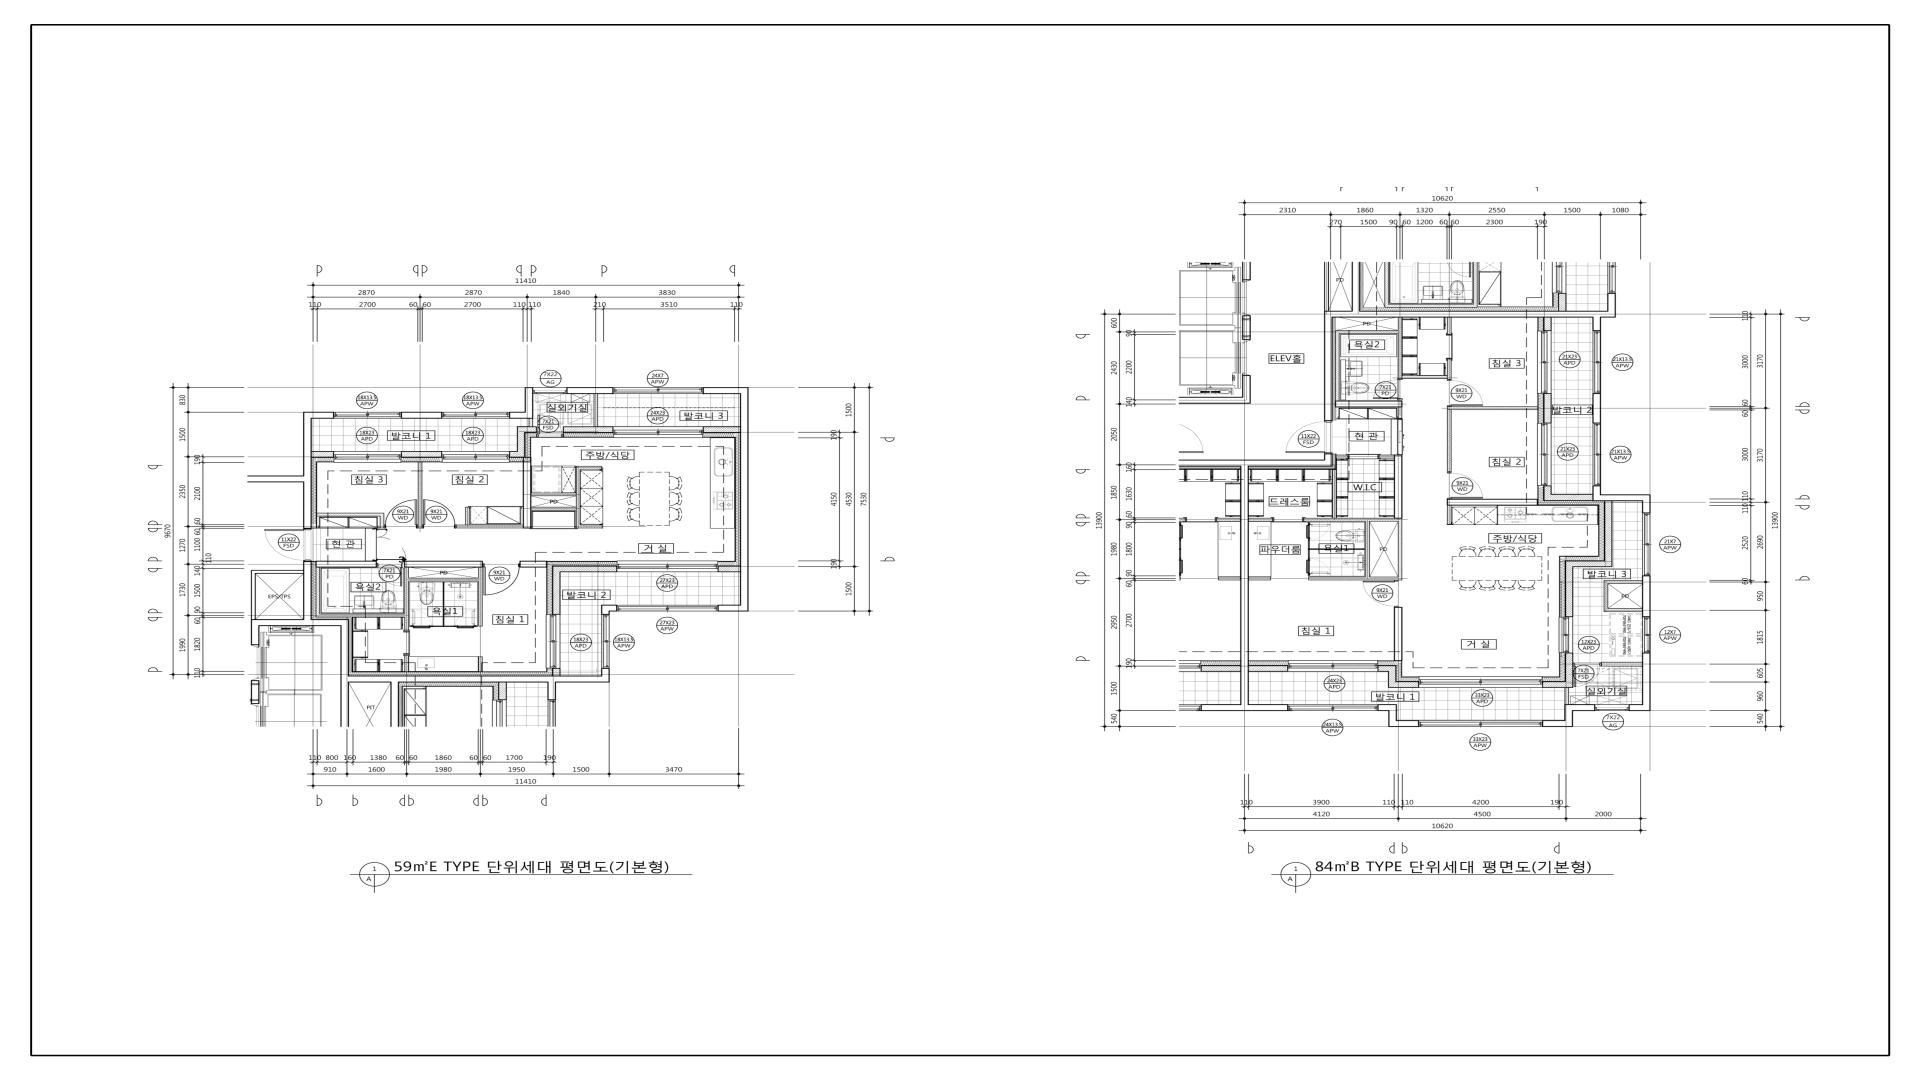door: (264, 529, 312, 561), (1285, 421, 1332, 453), (482, 563, 520, 595), (376, 528, 406, 561), (385, 499, 418, 529), (422, 500, 457, 528), (1363, 580, 1399, 607), (1447, 472, 1483, 499), (1447, 380, 1483, 406), (1573, 663, 1602, 687), (1373, 378, 1402, 401), (537, 415, 563, 438), (1306, 558, 1331, 576), (1306, 522, 1330, 540), (1397, 418, 1403, 455), (403, 630, 410, 656), (1446, 333, 1452, 360), (1273, 517, 1304, 522), (1348, 454, 1379, 459)
wall: (1240, 467, 1249, 704), (349, 675, 610, 682), (1324, 311, 1616, 317), (740, 394, 748, 605), (1179, 460, 1332, 467), (303, 412, 312, 529), (1324, 317, 1333, 421), (340, 626, 349, 727), (251, 619, 349, 626), (1447, 499, 1538, 506), (1201, 704, 1288, 711), (404, 561, 483, 568), (523, 462, 531, 528), (303, 561, 312, 619), (1179, 397, 1251, 404), (1394, 455, 1402, 518), (1604, 501, 1612, 560), (1642, 653, 1651, 704), (1565, 560, 1573, 617), (552, 565, 561, 615), (1394, 607, 1402, 661), (1335, 401, 1403, 407), (1352, 262, 1360, 311), (247, 475, 303, 482), (1642, 576, 1651, 617), (316, 561, 377, 567), (1447, 406, 1538, 410), (563, 426, 613, 433), (1543, 494, 1593, 501), (1593, 494, 1642, 501), (561, 566, 617, 572), (703, 387, 749, 394), (567, 387, 613, 394), (404, 567, 409, 630), (1447, 410, 1452, 472), (478, 567, 483, 626), (1304, 518, 1402, 521), (401, 412, 442, 419), (401, 451, 442, 458), (1365, 521, 1370, 577), (576, 469, 581, 525), (1249, 665, 1288, 672), (1573, 560, 1612, 567), (1592, 393, 1601, 423), (1308, 577, 1398, 580), (1335, 334, 1339, 401), (418, 462, 422, 528), (1543, 394, 1552, 423), (703, 426, 740, 433), (320, 614, 405, 617), (1335, 330, 1398, 334), (1324, 262, 1329, 311), (251, 570, 256, 619), (1398, 317, 1402, 378), (1332, 470, 1337, 518), (1398, 521, 1402, 580), (1242, 315, 1251, 340), (1565, 653, 1573, 681), (1542, 720, 1573, 727), (1543, 681, 1573, 688), (409, 578, 478, 581), (316, 513, 384, 516), (456, 525, 523, 528), (525, 387, 533, 412), (316, 567, 320, 617), (1242, 375, 1251, 397), (251, 680, 259, 704), (256, 570, 303, 574), (718, 605, 749, 611), (1402, 375, 1447, 379), (1642, 494, 1651, 513), (1601, 662, 1642, 666), (1242, 262, 1251, 280), (520, 561, 547, 567), (1396, 681, 1419, 688), (601, 605, 617, 615), (1397, 720, 1419, 727), (1573, 704, 1595, 711), (1629, 704, 1651, 711), (312, 412, 334, 419), (312, 451, 334, 458), (251, 626, 259, 645), (1604, 580, 1642, 584), (1388, 711, 1397, 727), (1564, 704, 1573, 720), (509, 412, 533, 418), (517, 433, 525, 451), (1608, 608, 1642, 612), (531, 507, 576, 510), (531, 493, 576, 496), (1378, 704, 1397, 711), (718, 566, 740, 572), (594, 394, 598, 426), (1388, 672, 1396, 688), (1543, 317, 1552, 331), (1378, 665, 1396, 672), (517, 427, 537, 433), (1592, 318, 1601, 331), (1604, 584, 1608, 612), (1310, 548, 1365, 550), (509, 451, 526, 457), (1249, 518, 1273, 522), (1447, 361, 1452, 380), (465, 507, 470, 525), (1447, 317, 1452, 333), (1564, 688, 1569, 704), (576, 466, 602, 469), (576, 525, 602, 528), (1447, 506, 1451, 525), (404, 656, 409, 671), (601, 668, 610, 676), (552, 668, 561, 676), (1543, 486, 1552, 494), (1249, 577, 1271, 580), (1593, 486, 1601, 494), (1324, 453, 1332, 460), (380, 516, 384, 528), (1379, 455, 1394, 458), (1398, 407, 1402, 418), (1308, 540, 1310, 558), (1336, 455, 1348, 458), (529, 419, 533, 426)
window: (1419, 676, 1543, 688), (617, 561, 718, 572), (1288, 660, 1378, 672), (613, 427, 703, 438), (1537, 331, 1551, 394), (1537, 423, 1551, 486), (1419, 720, 1542, 727), (442, 451, 510, 462), (546, 615, 560, 668), (334, 451, 401, 462), (1288, 704, 1378, 711), (613, 387, 703, 394), (617, 605, 718, 611), (1593, 423, 1601, 486), (1642, 513, 1650, 576), (1559, 617, 1573, 653), (1593, 331, 1601, 393), (601, 615, 610, 668), (442, 412, 509, 418), (334, 412, 401, 418), (1642, 617, 1651, 653), (1595, 704, 1629, 711), (533, 387, 567, 394)
